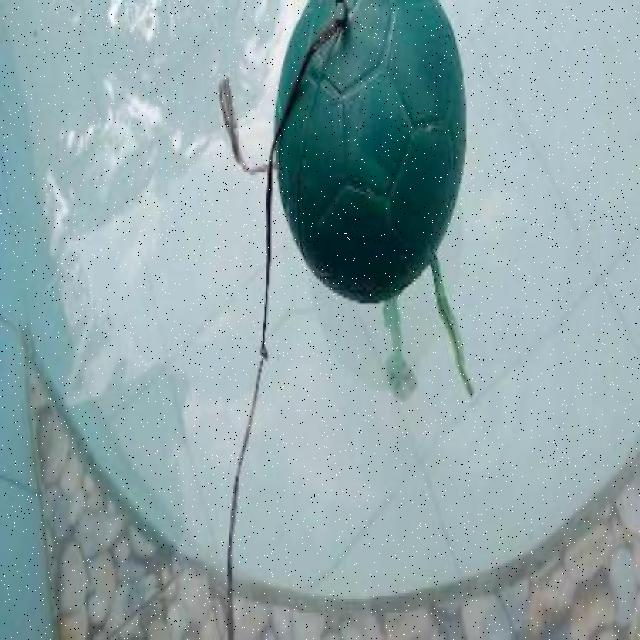buoy: (272, 0, 465, 303)
